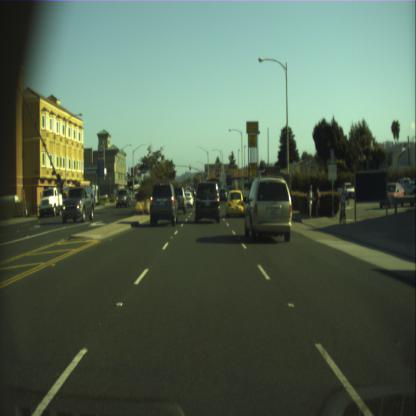Red: (189, 164, 191, 170), (216, 176, 218, 181), (208, 177, 210, 181)
